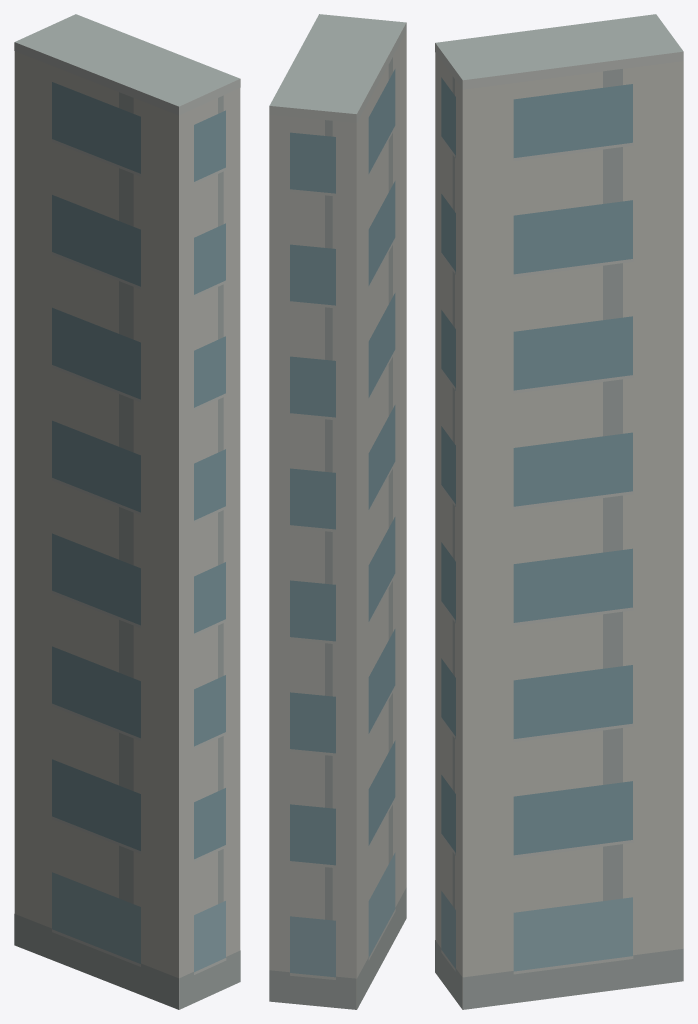
The model's file is survey-upis-32722325.glb.
3 renders of one model, left to right at view 1: azimuth 30°, elevation 25°; view 2: azimuth 150°, elevation 25°; view 3: azimuth 270°, elevation 25°, orthographic. The views are drawn at different scales.
Parts seen in each view (by area): view 1: survey-upis-32722325.tmp; view 2: survey-upis-32722325.tmp; view 3: survey-upis-32722325.tmp.
Part boxes in pixels (x1,y1,x2,y2): survey-upis-32722325.tmp: (14, 14, 240, 1009); survey-upis-32722325.tmp: (269, 14, 406, 1009); survey-upis-32722325.tmp: (435, 14, 683, 1009).
Size of the model in its own units: 3.74 by 24.4 by 5.92.
